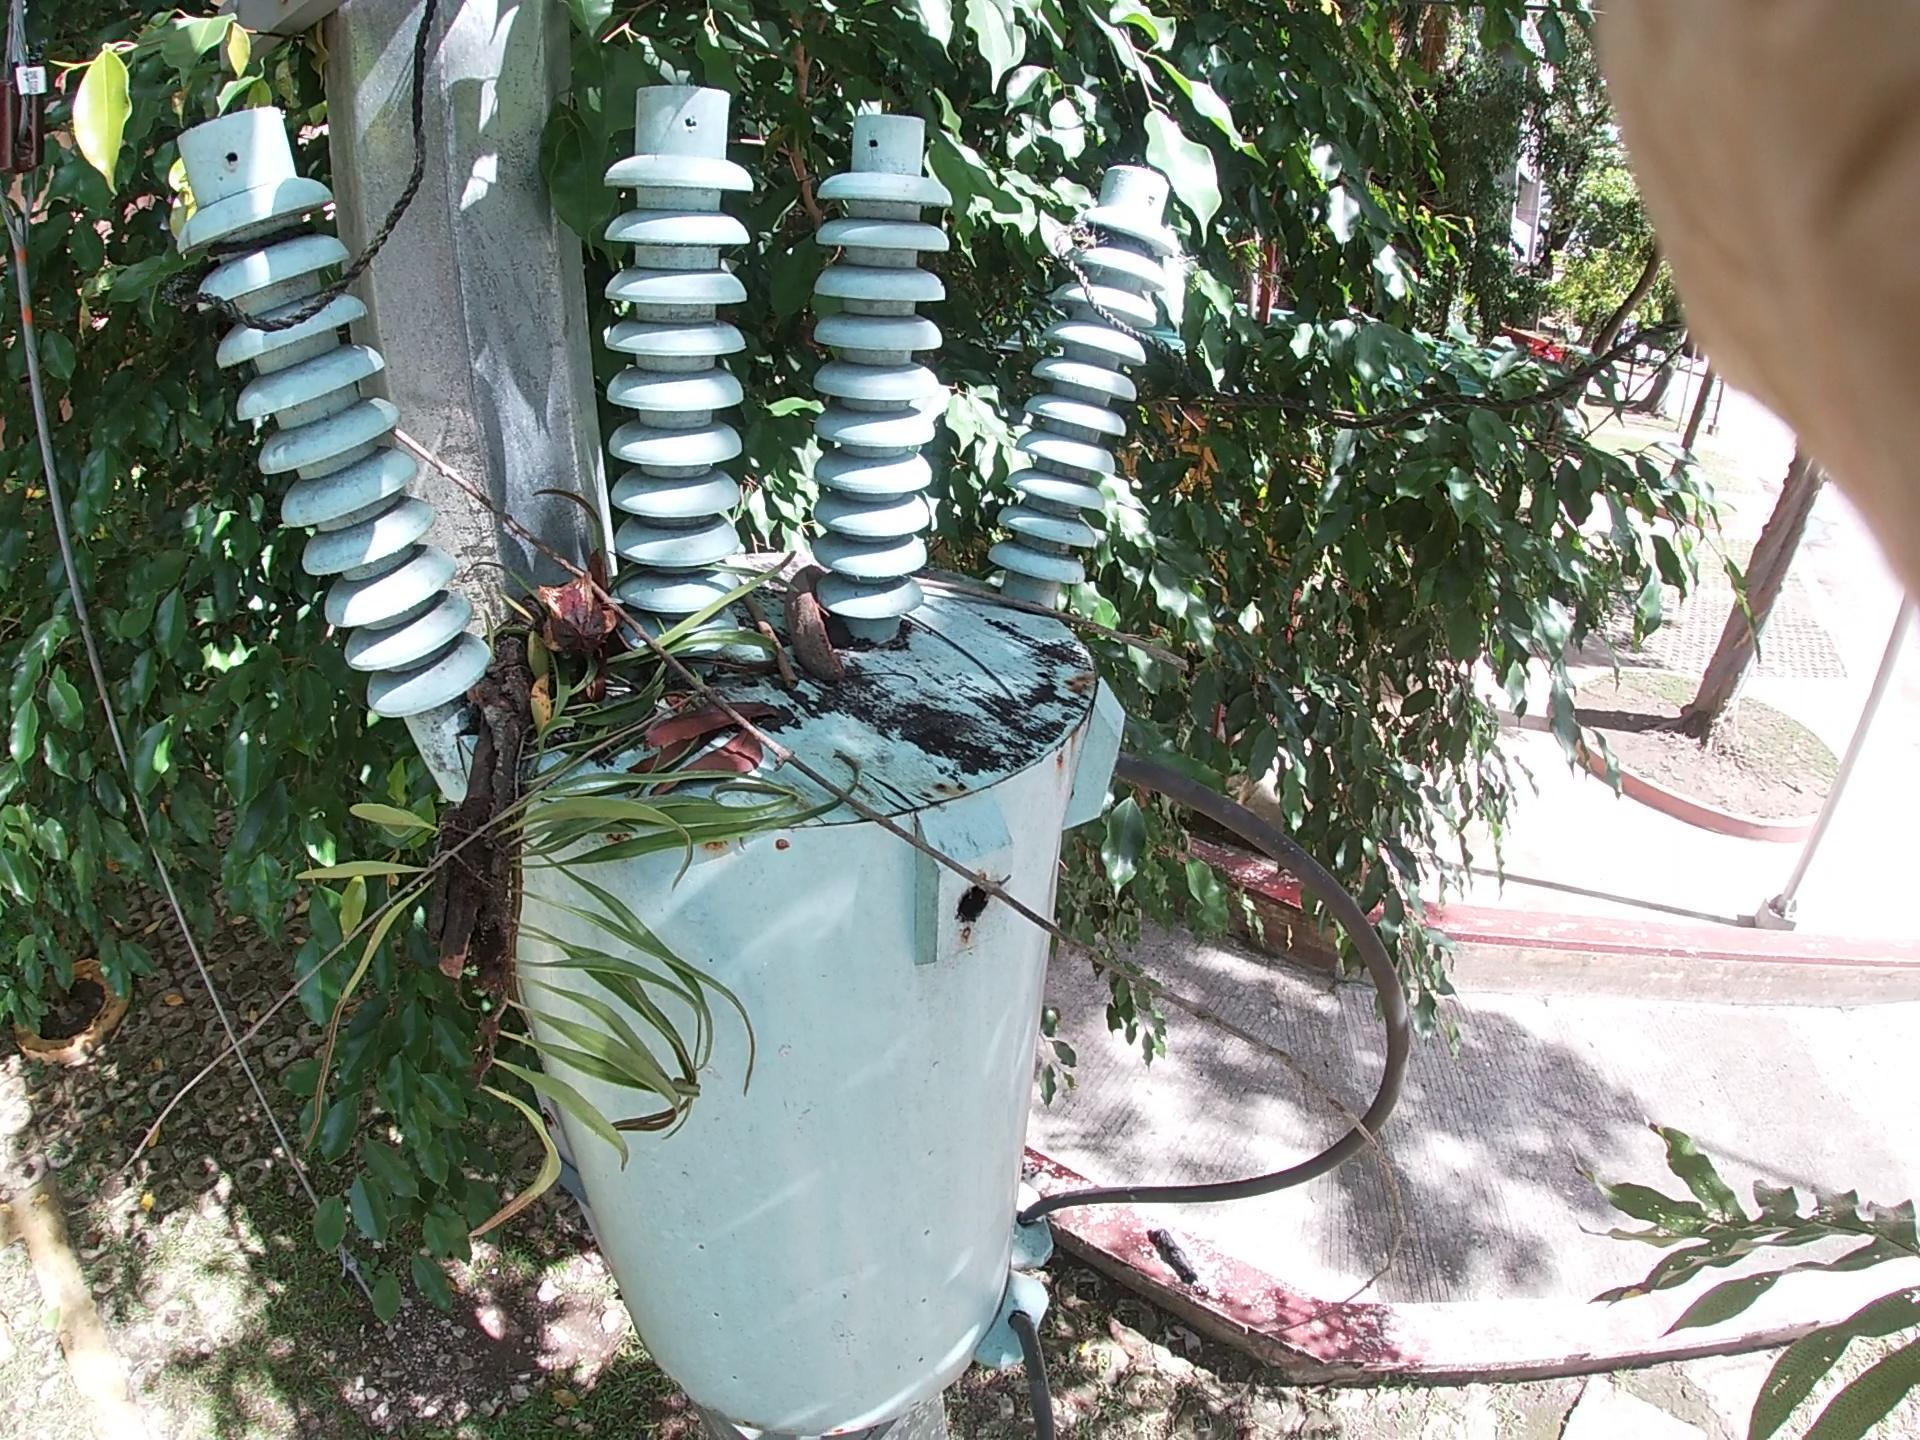branch with leaves: (367, 427, 650, 1189)
leaf: (348, 2, 1349, 461)
mahogany fruit: (488, 526, 698, 744), (742, 563, 872, 743)
tree branch: (310, 366, 1383, 1125), (812, 542, 1231, 687), (701, 440, 813, 743)
